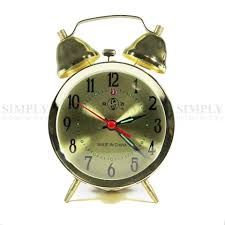alarm_clock: (45, 12, 174, 204), (45, 16, 174, 204)
